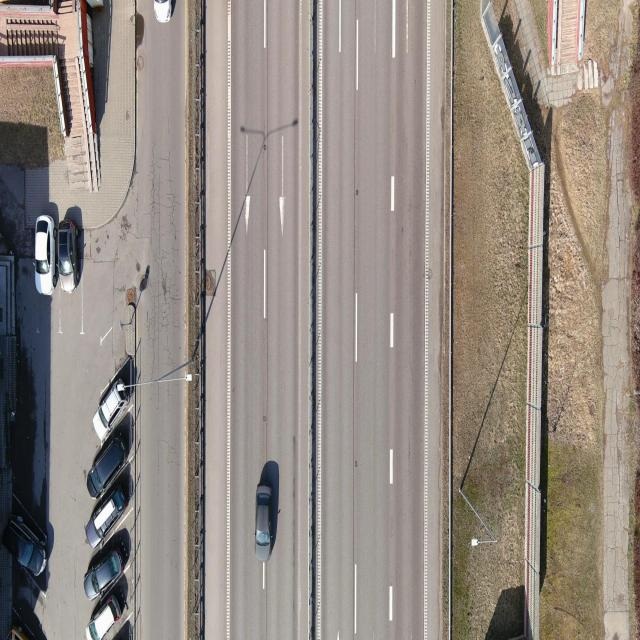Car: (83, 415, 137, 499), (90, 341, 137, 434), (87, 570, 147, 640), (81, 464, 136, 535), (85, 519, 135, 593), (253, 458, 287, 558), (59, 200, 85, 304), (33, 202, 55, 304)
